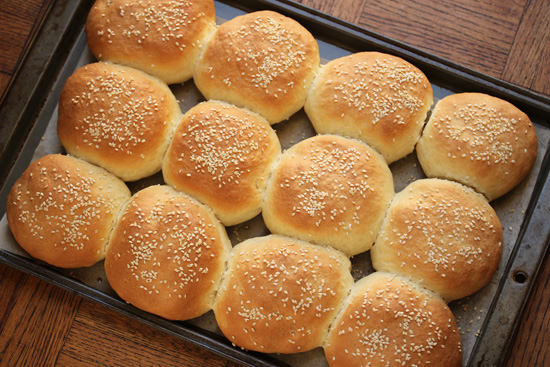hamburger_buns: (195, 224, 371, 355), (93, 186, 227, 330), (259, 127, 386, 256), (371, 173, 505, 292), (10, 150, 121, 284), (180, 99, 280, 226)
